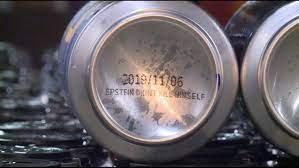metal: (57, 0, 239, 163), (243, 0, 299, 164)
